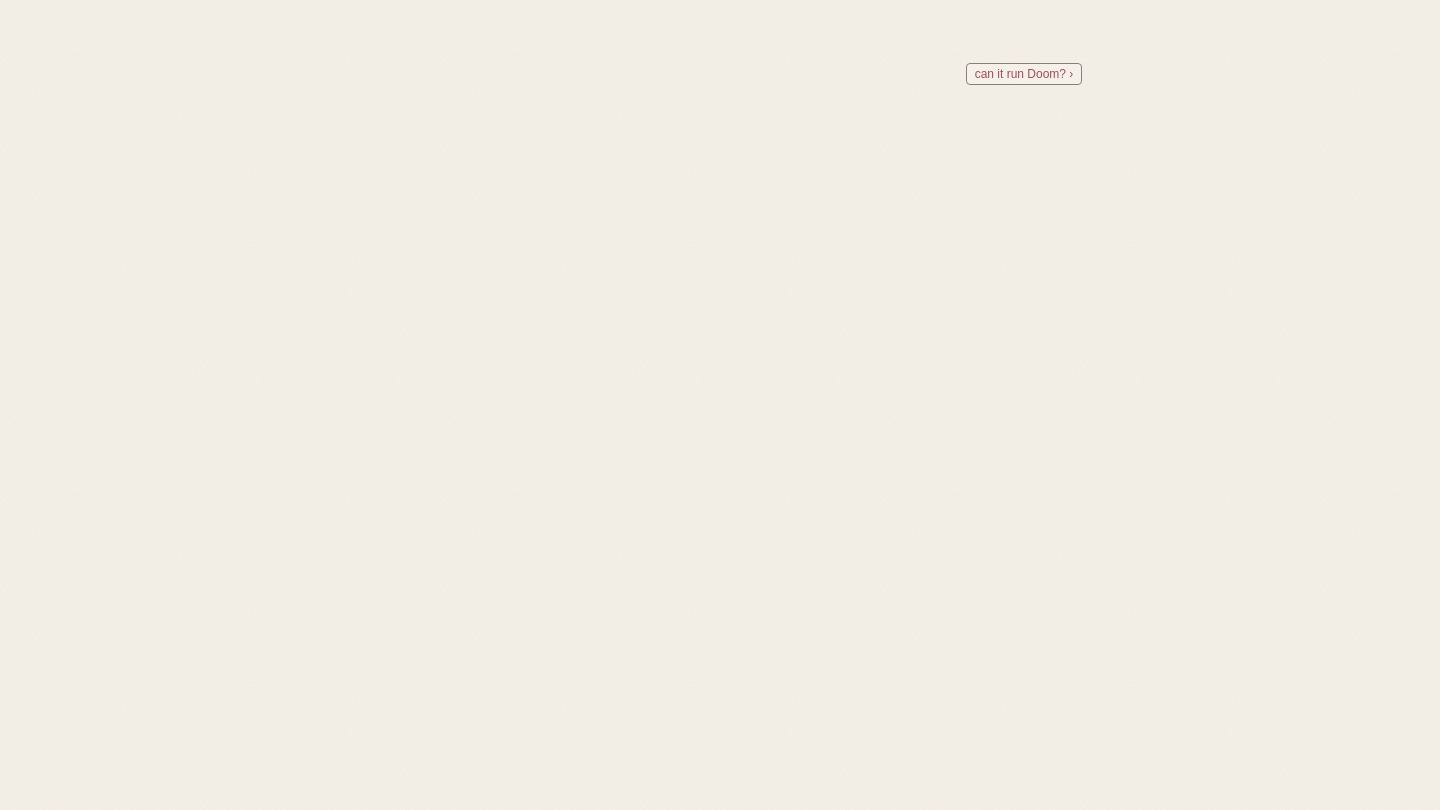
Test case: Duke runner in the terminal › goes back to the terminal on Escape and prints the score
Click the button with aria-label "Open the laptop terminal" at x=1024, y=74, box [454, 34, 1108, 88]
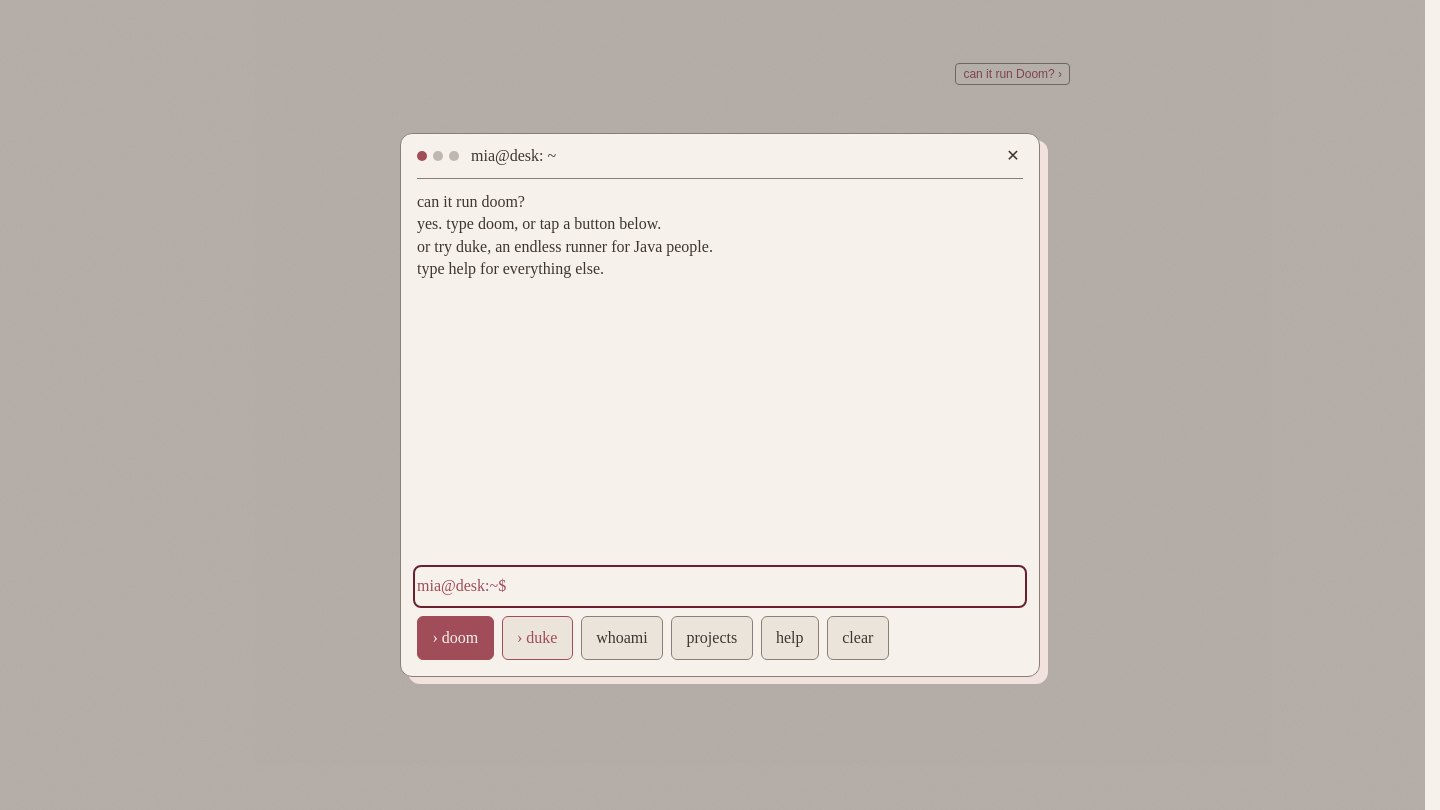
Click the button "› duke" at x=537, y=638, box [502, 616, 573, 660]
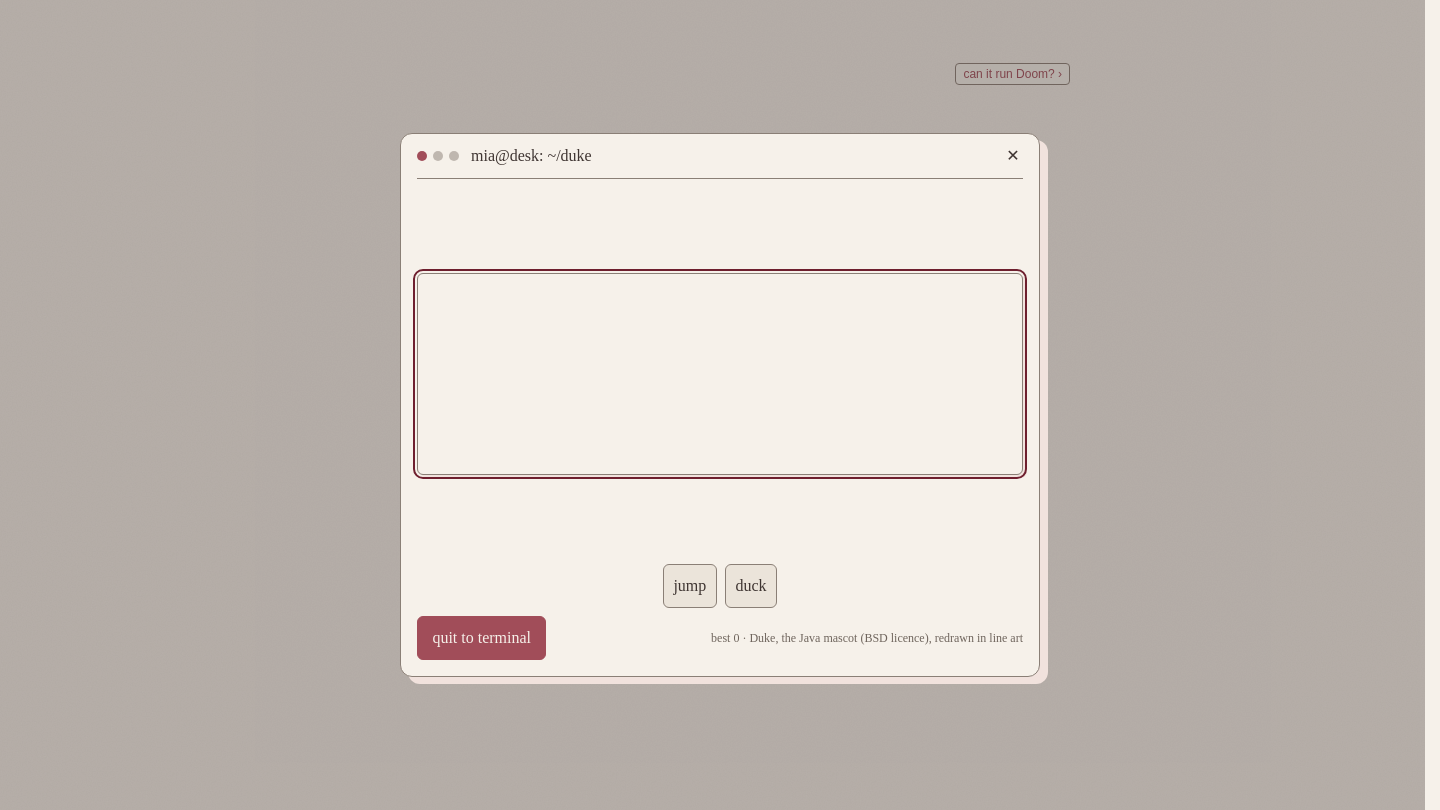
Press Escape in the drawing named "Duke runner", box [417, 272, 1023, 474]
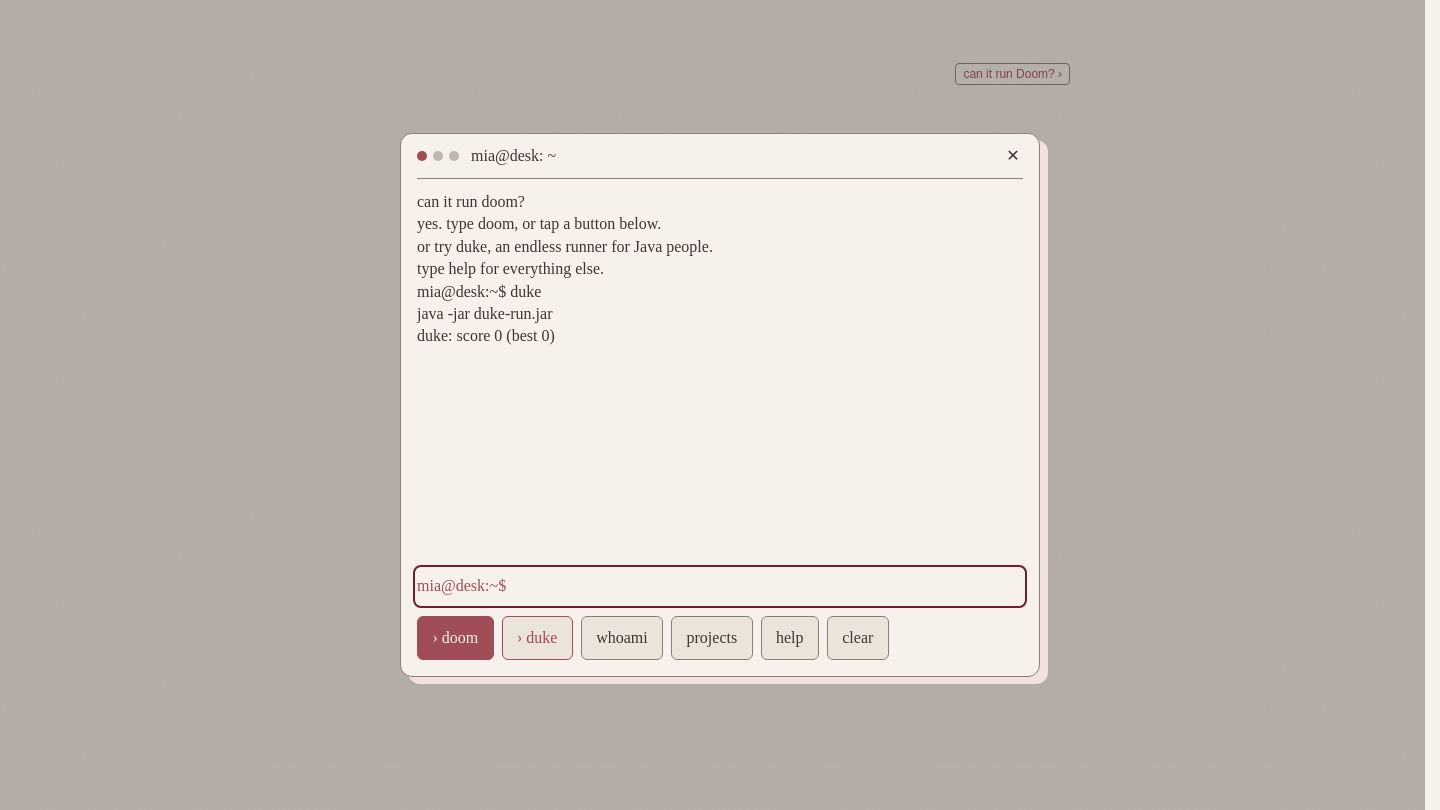
Result: the list shows "duke: score 0 (best 0)" at [417, 327, 555, 344]
